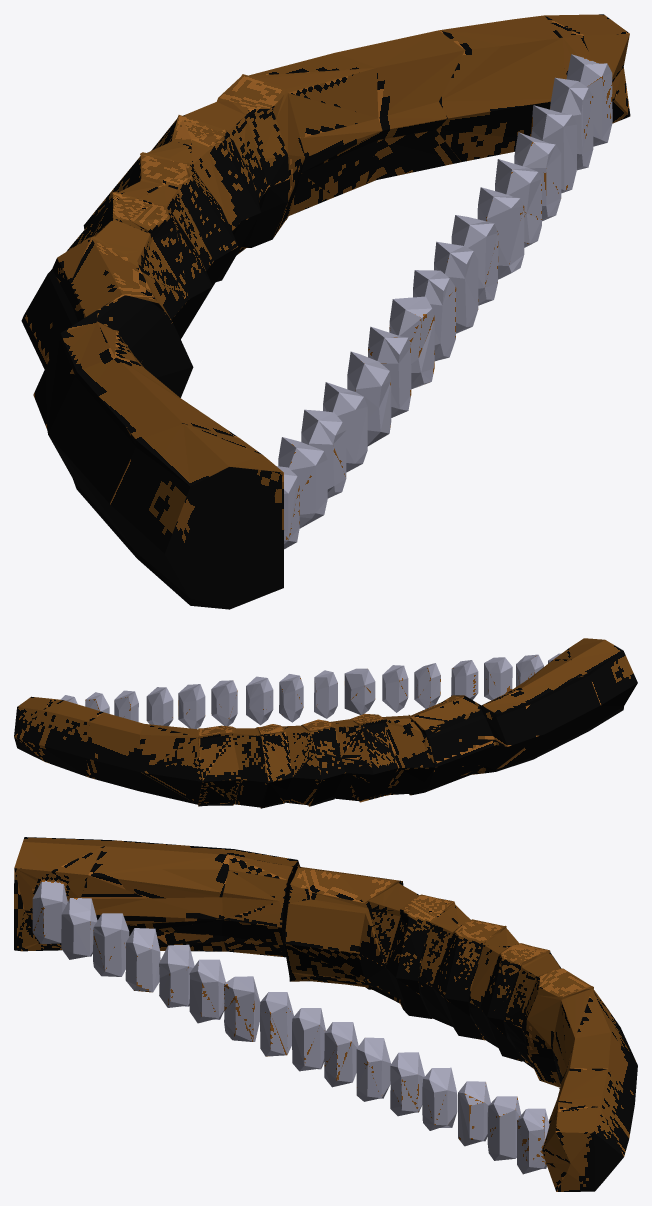
3 views of the same model, one above another, from view 1: azimuth 30°, elevation 25°; view 2: azimuth 150°, elevation 25°; view 3: azimuth 270°, elevation 25° (orthographic). The views are drawn at different scales.
Visible parts, largest first — view 1: OBJ019; view 2: OBJ019; view 3: OBJ019.
Part boxes in pixels (box(x1,y1,x2,y2)): OBJ019: box(21, 14, 630, 609); OBJ019: box(14, 638, 637, 808); OBJ019: box(14, 837, 637, 1191).
Size of the model in its own units: 0.4443 by 0.0807 by 0.3992.
Materials: 1 (1 with a texture image).
